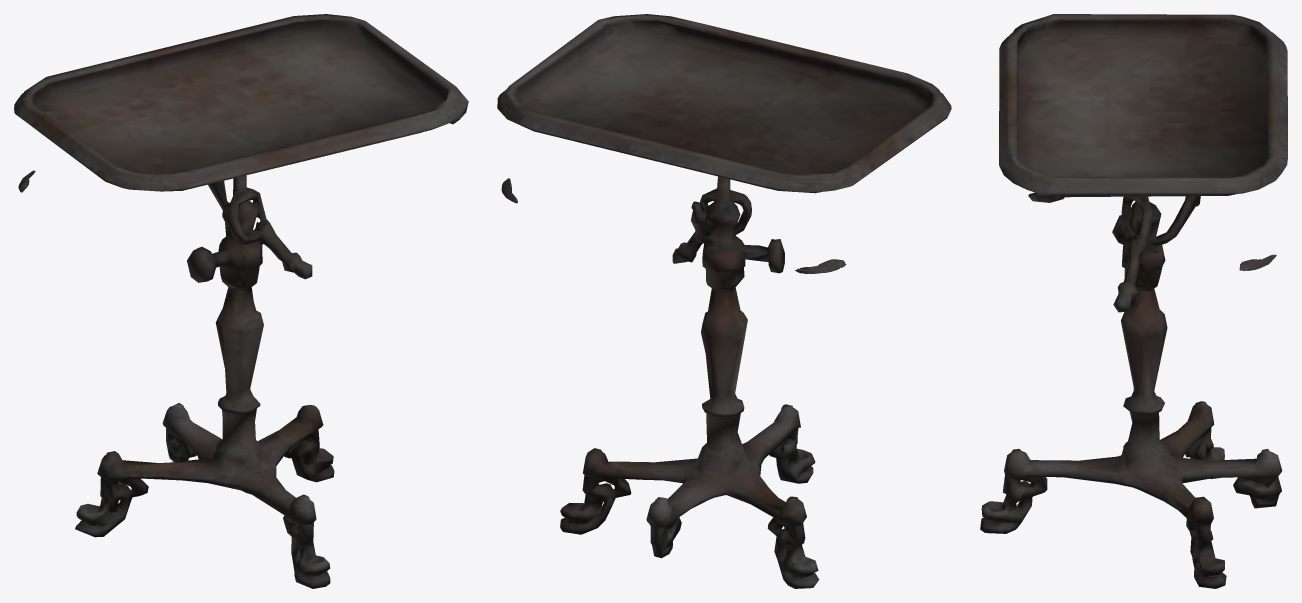
Rendered from ornate-iron-operating-table-v002.glb.
3 views of the same model, side by side, from view 1: azimuth 30°, elevation 25°; view 2: azimuth 150°, elevation 25°; view 3: azimuth 270°, elevation 25° (orthographic).
Visible parts, largest first — view 1: ornate-iron-operating-table; view 2: ornate-iron-operating-table; view 3: ornate-iron-operating-table.
Part boxes in pixels (x1,y1,x2,y2): ornate-iron-operating-table: [14, 14, 468, 588]; ornate-iron-operating-table: [497, 14, 951, 588]; ornate-iron-operating-table: [980, 14, 1287, 588].
Size of the model in its own units: 0.8362 by 0.9743 by 0.6288.
1 material, 1 textured.
